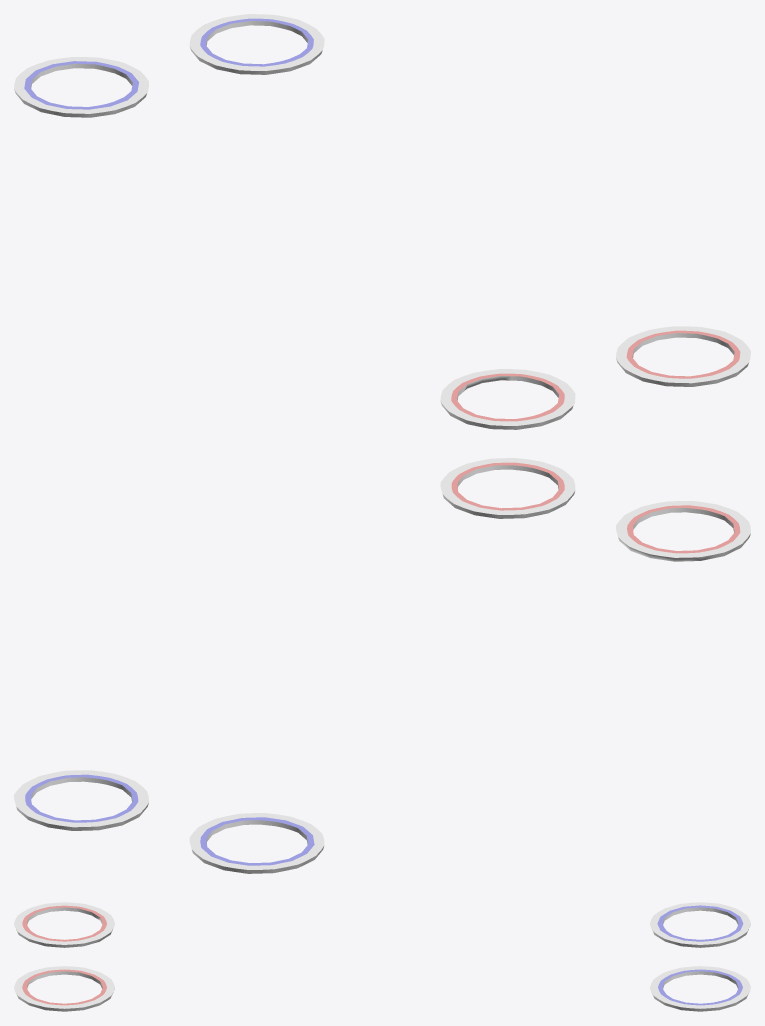
Rendered from holes.glb.
3 views of the same model, one above another, from view 1: azimuth 30°, elevation 25°; view 2: azimuth 150°, elevation 25°; view 3: azimuth 270°, elevation 25° (orthographic). The views are drawn at different scales.
Parts seen in each view (by area): view 1: gfxGlow_White_a.png__, stk_lightGrayMetal_a.png__, softLight.jpg__; view 2: gfxGlow_White_a.png__, stk_lightGrayMetal_a.png__, softLight.jpg__; view 3: gfxGlow_White_a.png__, stk_lightGrayMetal_a.png__, softLight.jpg__.
Boxes of the visible parts, x1,y1,x2,y2 form: gfxGlow_White_a.png__: (14, 14, 750, 425); stk_lightGrayMetal_a.png__: (14, 21, 748, 429); softLight.jpg__: (24, 18, 740, 421); gfxGlow_White_a.png__: (14, 458, 750, 869); stk_lightGrayMetal_a.png__: (16, 465, 750, 873); softLight.jpg__: (25, 462, 740, 865); gfxGlow_White_a.png__: (14, 902, 750, 1008); stk_lightGrayMetal_a.png__: (16, 907, 748, 1011); softLight.jpg__: (22, 905, 743, 1005).
Size of the model in its own units: 37.87 by 0.55 by 111.
3 materials, 1 textured.
